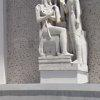Statue: (28, 2, 96, 83)
